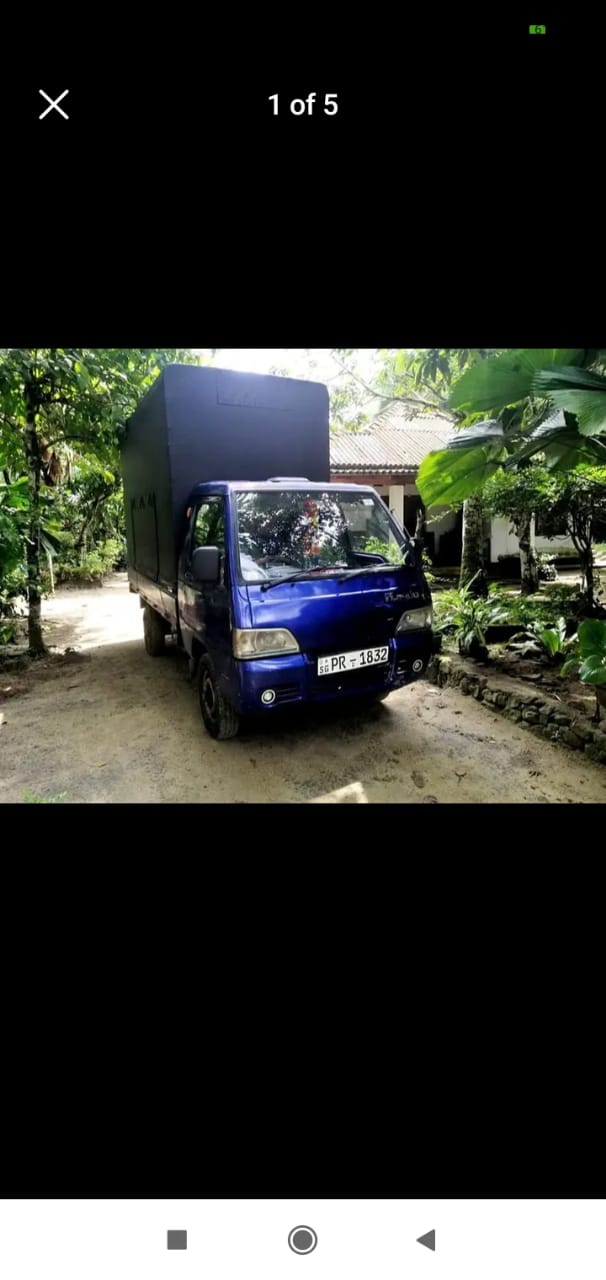number_plate: (310, 639, 397, 683)
